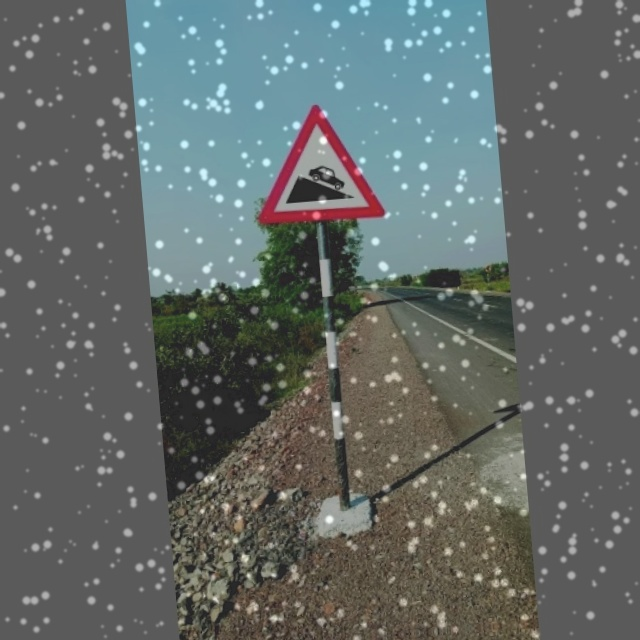Steep_Descent: (252, 100, 379, 225)
